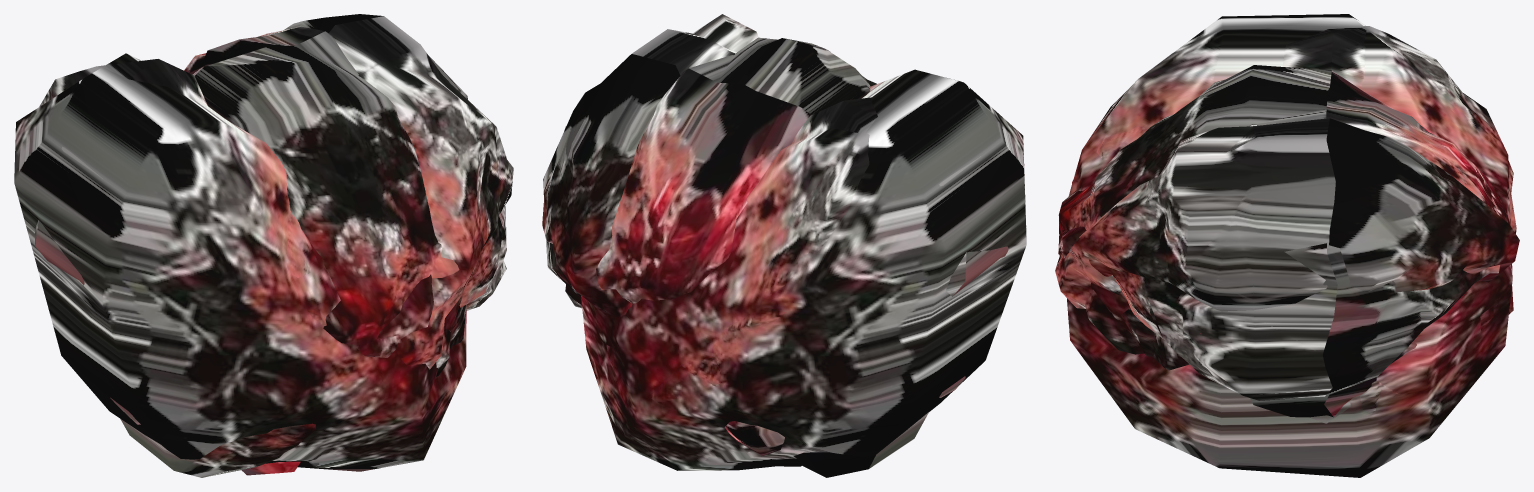
File: ast_kristal.glb
3 renders of one model, left to right at view 1: azimuth 30°, elevation 25°; view 2: azimuth 150°, elevation 25°; view 3: azimuth 270°, elevation 25°, orthographic. The views are drawn at different scales.
Parts seen in each view (by area): view 1: PICK_kristal, AST_kristal_3, AST_kristal_2, AST_kristal_1; view 2: PICK_kristal, AST_kristal_3, AST_kristal_2, AST_kristal_1; view 3: AST_kristal_2, PICK_kristal, AST_kristal_3, AST_kristal_1.
Part boxes in pixels (x1=…): PICK_kristal: x1=14, y1=53, x2=466, y2=471; AST_kristal_3: x1=110, y1=26, x2=506, y2=475; AST_kristal_2: x1=120, y1=14, x2=513, y2=477; AST_kristal_1: x1=35, y1=59, x2=413, y2=466; PICK_kristal: x1=581, y1=69, x2=1026, y2=470; AST_kristal_3: x1=546, y1=37, x2=965, y2=466; AST_kristal_2: x1=542, y1=14, x2=928, y2=477; AST_kristal_1: x1=620, y1=97, x2=1008, y2=438; AST_kristal_2: x1=1055, y1=118, x2=1519, y2=417; PICK_kristal: x1=1062, y1=14, x2=1512, y2=477; AST_kristal_3: x1=1058, y1=65, x2=1506, y2=400; AST_kristal_1: x1=1071, y1=26, x2=1516, y2=423.
Size of the model in its own units: 1.05 by 0.9925 by 1.11.
Materials: 1 (1 with a texture image).
